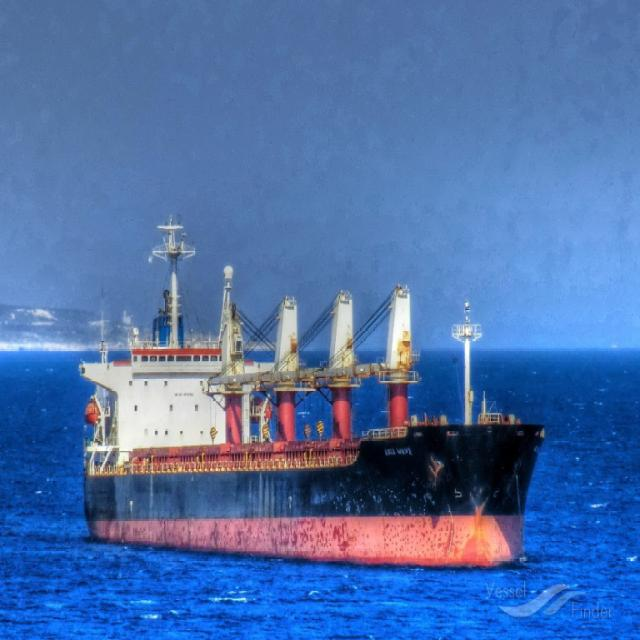OCR: (378, 440, 413, 460)
